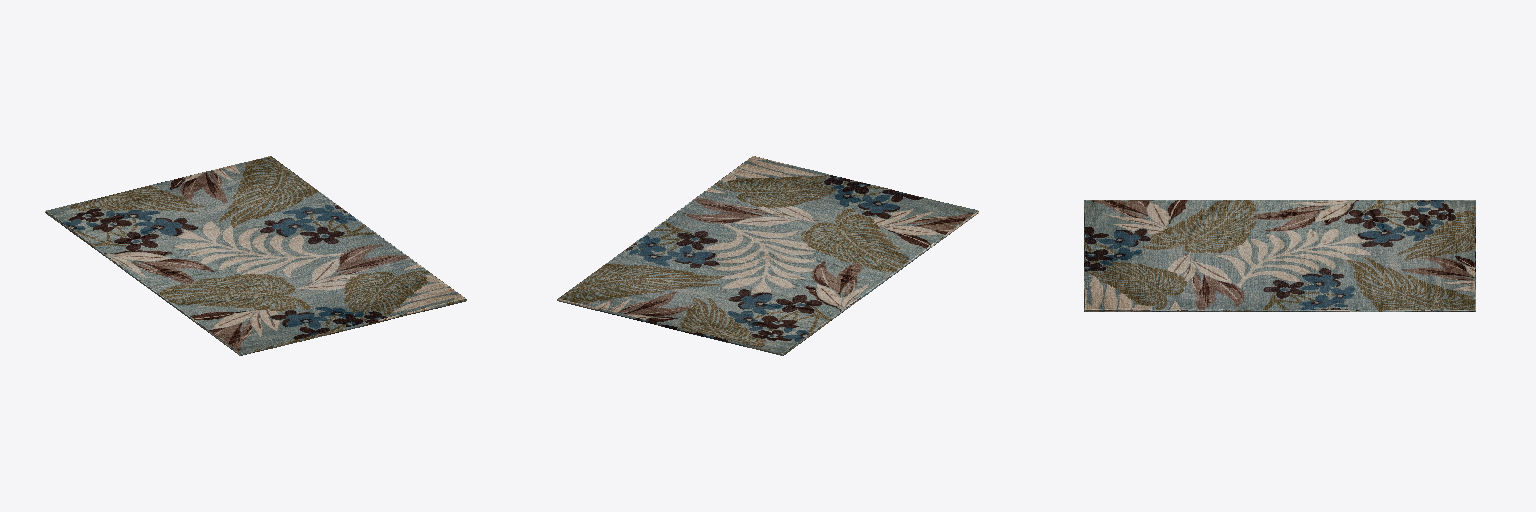
The picture shows the model from 3 angles: view 1: azimuth 30°, elevation 25°; view 2: azimuth 150°, elevation 25°; view 3: azimuth 270°, elevation 25°; orthographic projection.
Visible parts, largest first — view 1: ChamferBox083_Untitled; view 2: ChamferBox083_Untitled; view 3: ChamferBox083_Untitled.
Boxes of the visible parts, x1=… form: ChamferBox083_Untitled: x1=45, y1=156, x2=466, y2=355; ChamferBox083_Untitled: x1=557, y1=156, x2=978, y2=355; ChamferBox083_Untitled: x1=1084, y1=200, x2=1475, y2=311.
Bounding box in the file's own units: 7.59 × 0.1087 × 11.37.
Materials: 1 (1 with a texture image).